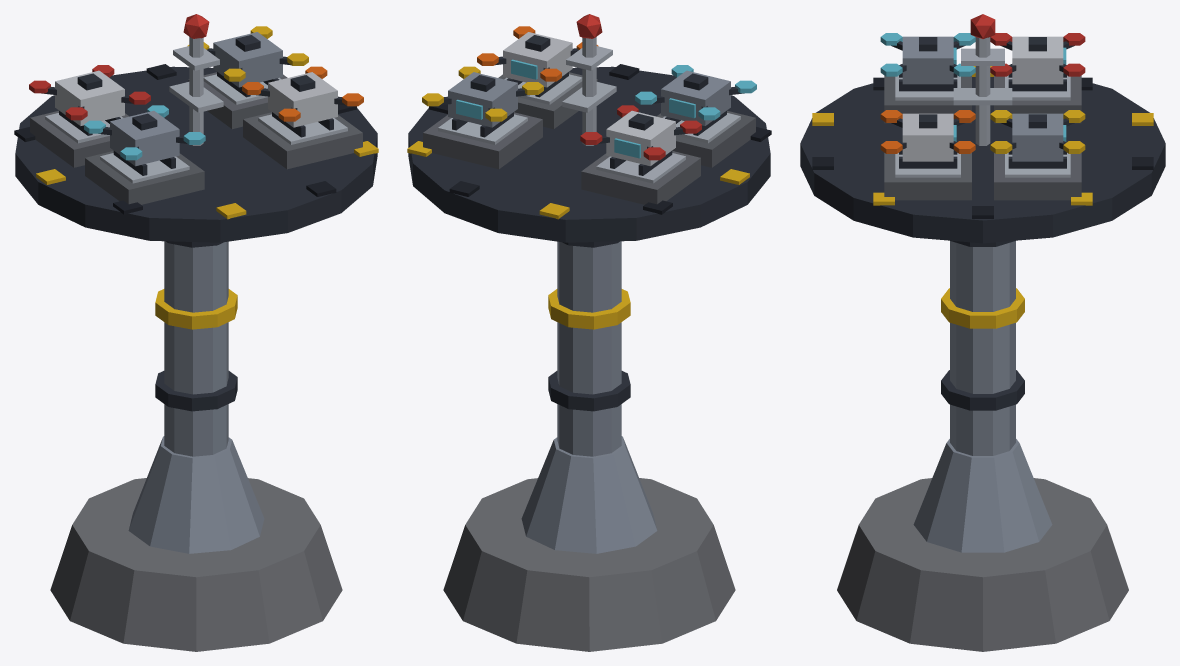
Rendered from Decor_RobotFactory_Drones.fbx.
3 renders of one model, left to right at view 1: azimuth 30°, elevation 25°; view 2: azimuth 150°, elevation 25°; view 3: azimuth 270°, elevation 25°, orthographic.
Parts seen in each view (by area): view 1: Drones_Body; view 2: Drones_Body; view 3: Drones_Body.
Boxes of the visible parts, x1,y1,x2,y2 form: Drones_Body: (14,14,378,651); Drones_Body: (407,14,771,651); Drones_Body: (800,14,1165,651).
Bounding box in the file's own units: 10 × 17.4 × 10.
